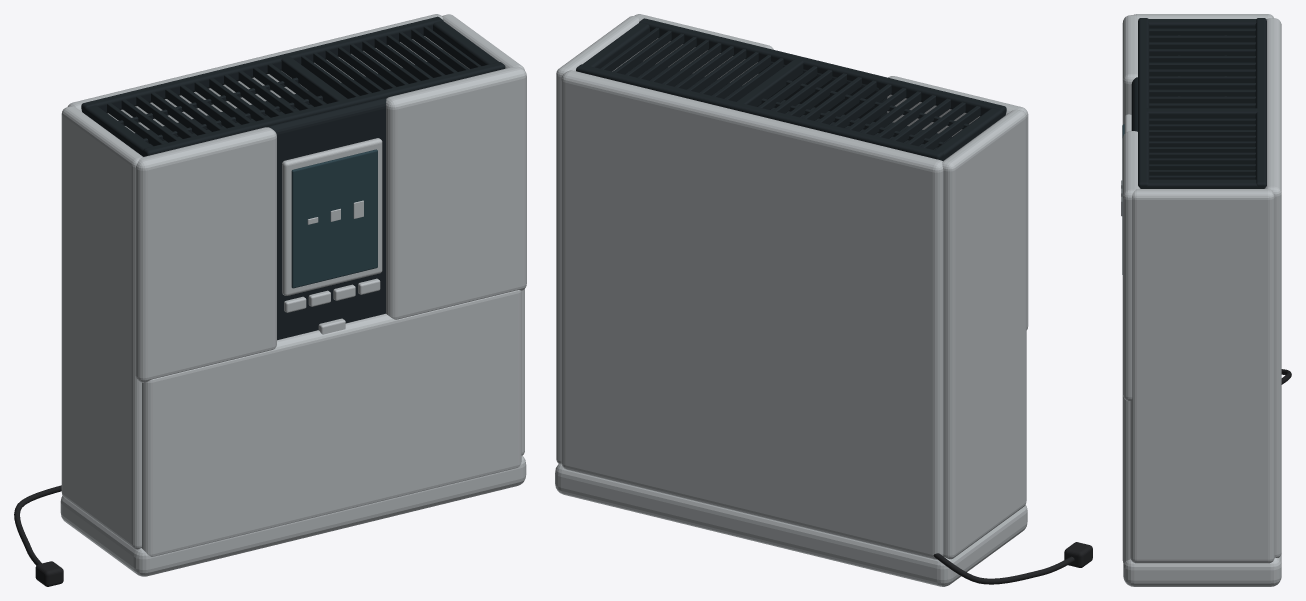
Rendered from A-NEW-20261026-AIR-PURIFIER-001_LOD0_R2.glb.
3 renders of one model, left to right at view 1: azimuth 30°, elevation 25°; view 2: azimuth 150°, elevation 25°; view 3: azimuth 270°, elevation 25°, orthographic. The views are drawn at different scales.
Parts seen in each view (by area): view 1: wide lower front, left front shoulder, right front shoulder, left sidewall, portrait dark display, main housing, deep central console, exhaust edge rail 1, portrait screen surround, exhaust edge rail -1, plain rear panel, right sidewall (+11 smaller); view 2: plain rear panel, left sidewall, main housing, exhaust edge rail -1, right sidewall, exhaust edge rail 1, left front shoulder, split exhaust divider, exhaust end rail -1, exhaust end rail 1, rear power cable, right front shoulder; view 3: right sidewall, plain rear panel, main housing, right front shoulder, exhaust edge rail -1, exhaust edge rail 1, wide lower front, left front shoulder, split exhaust divider, exhaust end rail 1, exhaust end rail -1, left exhaust slat 00 (+24 smaller).
Part boxes in pixels (box(x1,y1,x2,y2)): wide lower front: box(141, 290, 521, 556); left front shoulder: box(135, 127, 276, 382); right front shoulder: box(386, 66, 526, 319); left sidewall: box(61, 106, 142, 549); portrait dark display: box(291, 149, 377, 288); main housing: box(60, 455, 526, 576); deep central console: box(269, 98, 386, 340); exhaust edge rail 1: box(81, 16, 443, 113); portrait screen surround: box(282, 138, 382, 295); exhaust edge rail -1: box(143, 62, 505, 156); plain rear panel: box(67, 14, 442, 133); right sidewall: box(442, 14, 524, 455); plain rear panel: box(561, 70, 943, 559); left sidewall: box(942, 109, 1026, 559); main housing: box(555, 463, 1027, 586); exhaust edge rail -1: box(639, 18, 1006, 116); right sidewall: box(556, 16, 639, 463); exhaust edge rail 1: box(576, 64, 943, 160); left front shoulder: box(887, 76, 1028, 329); split exhaust divider: box(735, 57, 804, 106); exhaust end rail -1: box(934, 108, 1003, 160); exhaust end rail 1: box(583, 22, 649, 68); rear power cable: box(933, 553, 1074, 584); right front shoulder: box(634, 14, 773, 85); right sidewall: box(1130, 189, 1274, 563); plain rear panel: box(1264, 18, 1281, 557); main housing: box(1123, 554, 1281, 586); right front shoulder: box(1122, 131, 1140, 401); exhaust edge rail -1: box(1138, 18, 1149, 188); exhaust edge rail 1: box(1255, 18, 1266, 188); wide lower front: box(1122, 394, 1130, 563); left front shoulder: box(1122, 15, 1138, 124); split exhaust divider: box(1143, 108, 1261, 118); exhaust end rail 1: box(1146, 179, 1258, 188); exhaust end rail -1: box(1148, 19, 1256, 28); left exhaust slat 00: box(1149, 28, 1255, 35).
Size of the model in its own units: 0.552 by 0.473 by 0.183.
